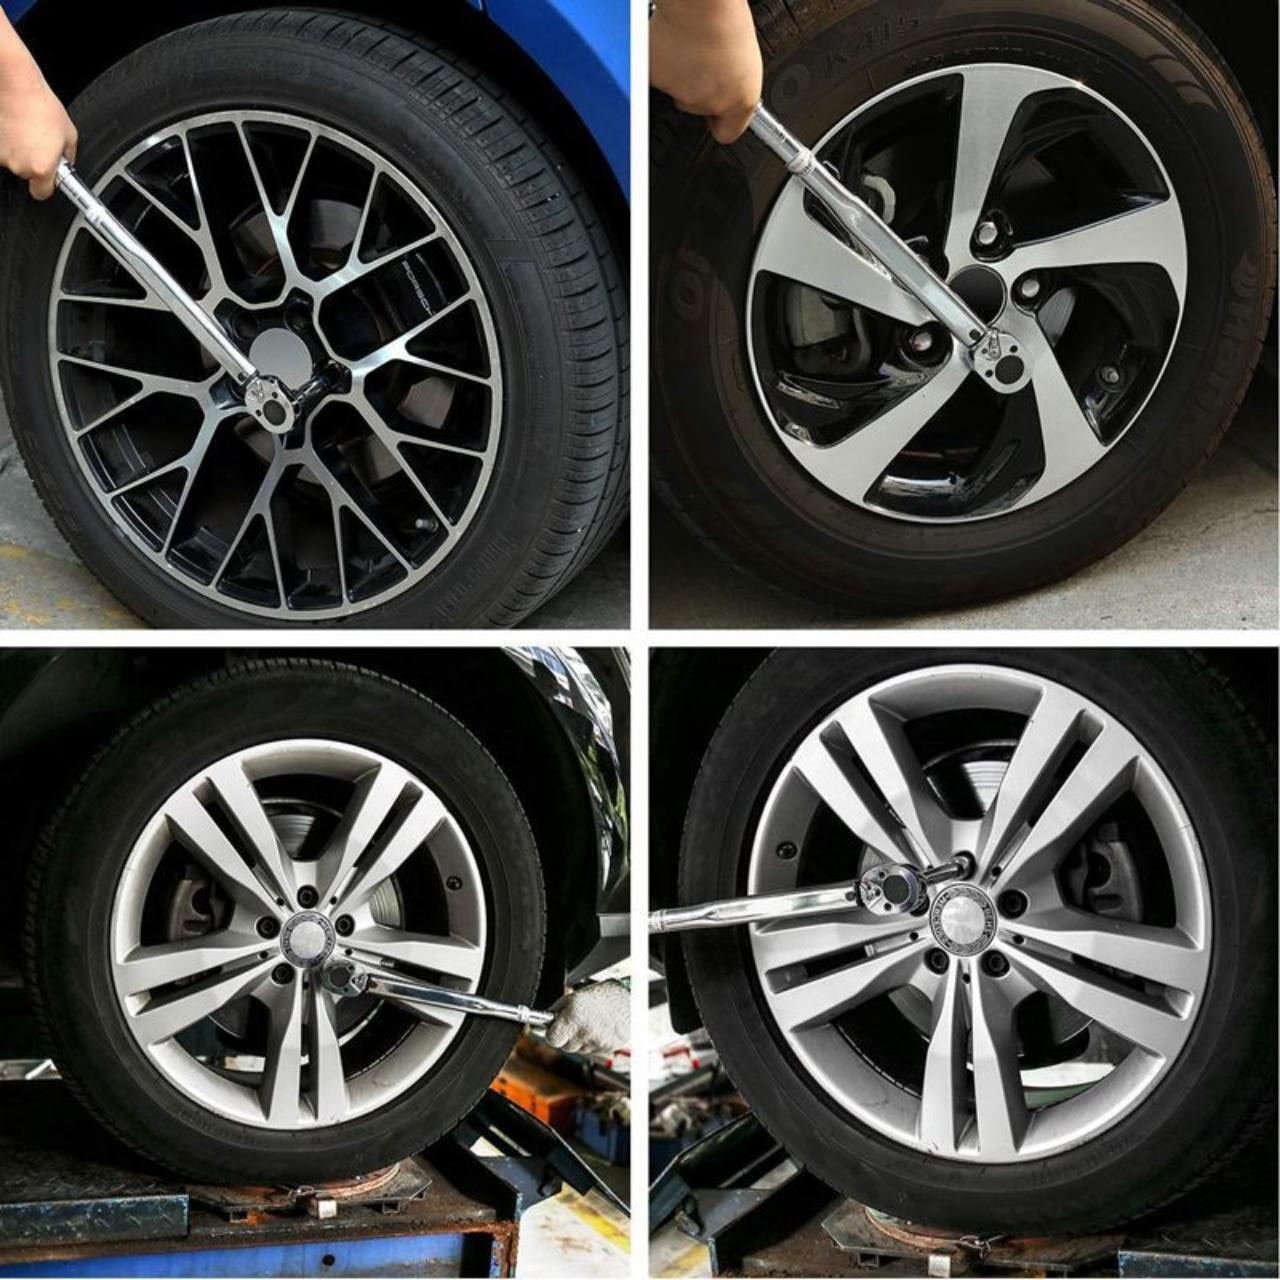Tool: (972, 327, 1039, 392), (240, 375, 298, 436), (862, 864, 926, 917), (321, 958, 373, 1002)
